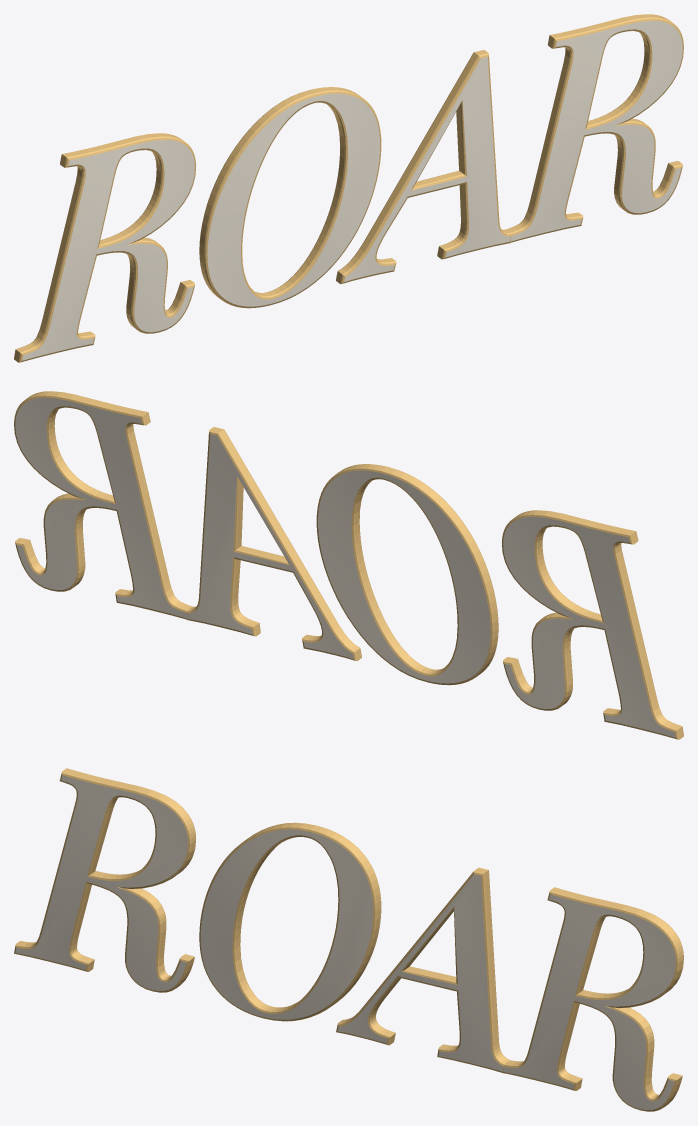
The model's file is roar-mobile.glb.
3 views of the same model, one above another, from view 1: azimuth 30°, elevation 25°; view 2: azimuth 150°, elevation 25°; view 3: azimuth 330°, elevation 25° (orthographic).
Visible parts, largest first — view 1: Pearl, Gold; view 2: Pearl, Gold; view 3: Pearl, Gold.
Part boxes in pixels (bbox=[...]): Pearl: bbox=[22, 20, 682, 360]; Gold: bbox=[14, 14, 683, 362]; Pearl: bbox=[15, 397, 675, 737]; Gold: bbox=[14, 391, 683, 739]; Pearl: bbox=[15, 775, 675, 1109]; Gold: bbox=[14, 768, 683, 1111].
Size of the model in its own units: 2.61 by 0.754 by 0.058.
